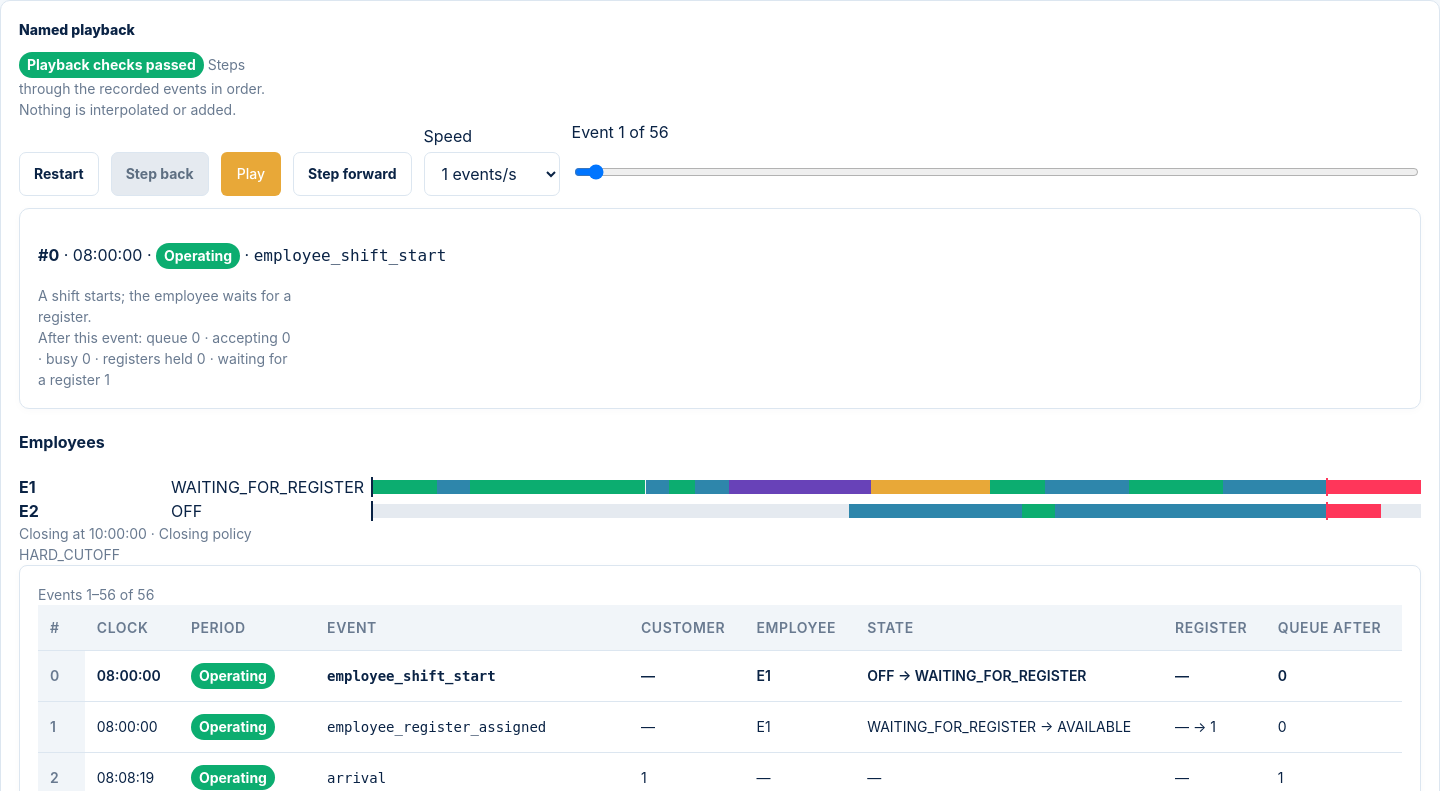
Scenario: NamedSharedQueuePlayback › steps event by event and shows each event with its vocabulary meaning
The width and height of the screenshot is (1440, 791).
expect the element with test id "named-current-event" shows "08:00:00": met, box [73,245,142,265]
Click the button "Step forward".
click(352, 174)  # box [293,152,412,196]
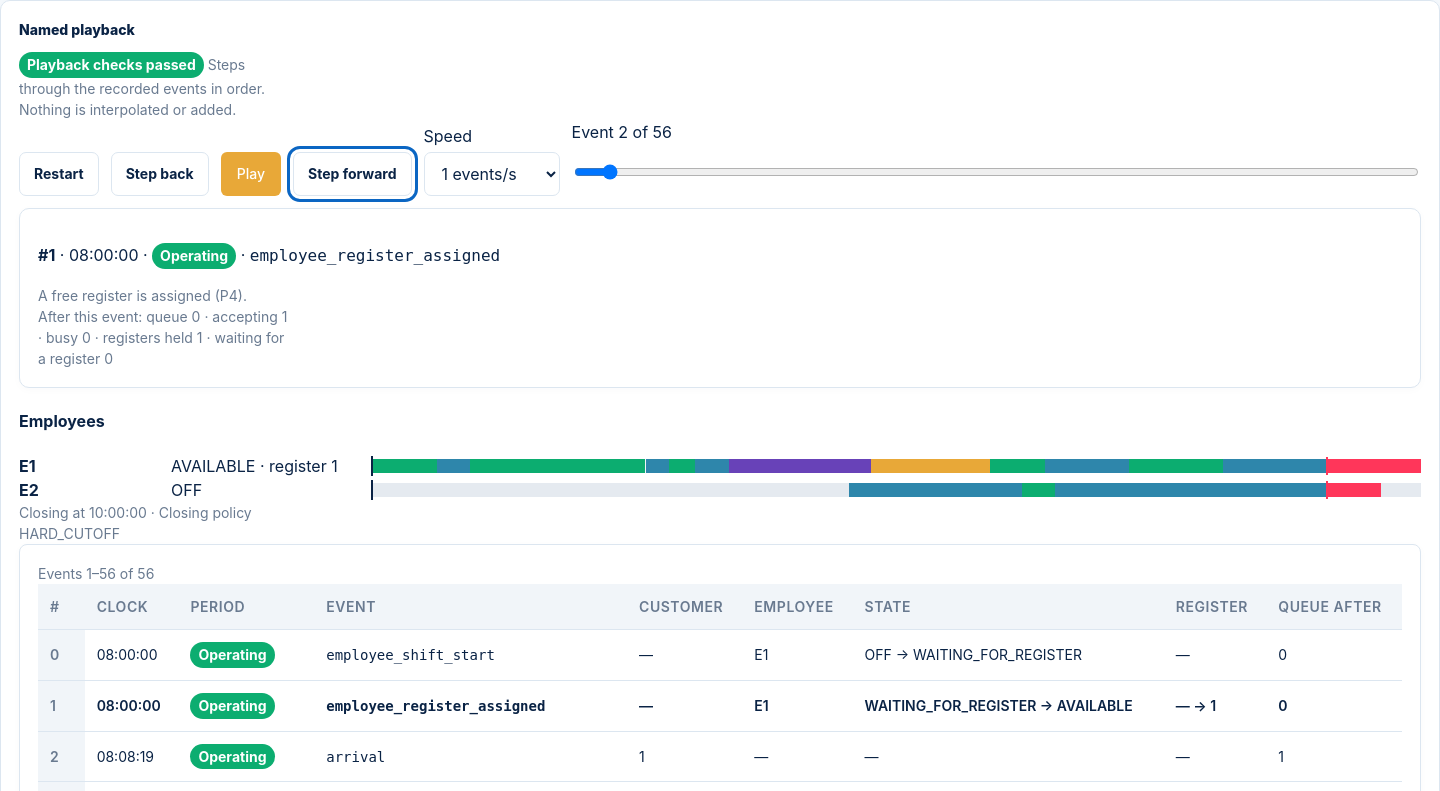
Click the button "Step back".
click(160, 174)  # box [111,152,209,196]
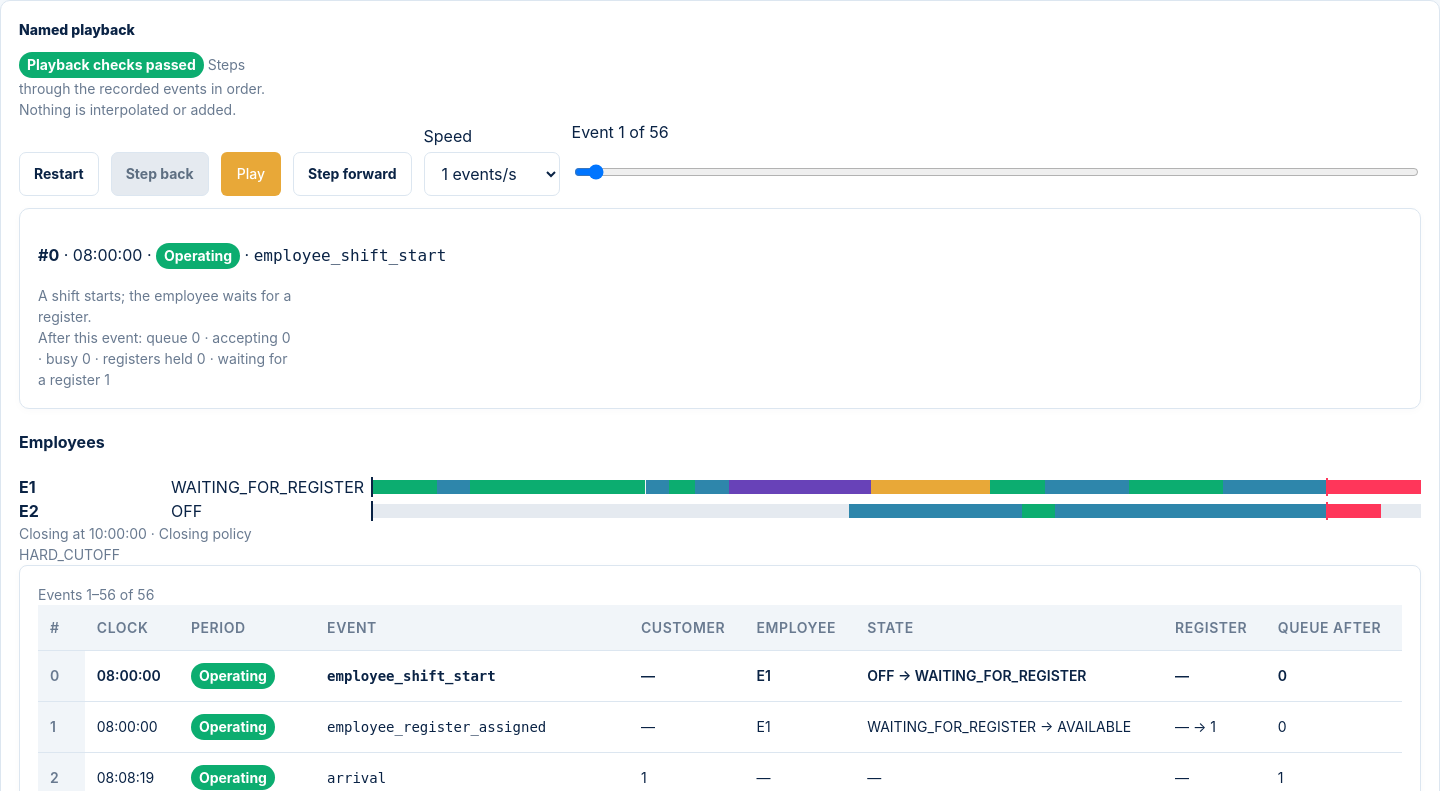
Set the slider labelled "Event 1 of 56" to "46" at (1275, 172), box [574,150,1419,194]
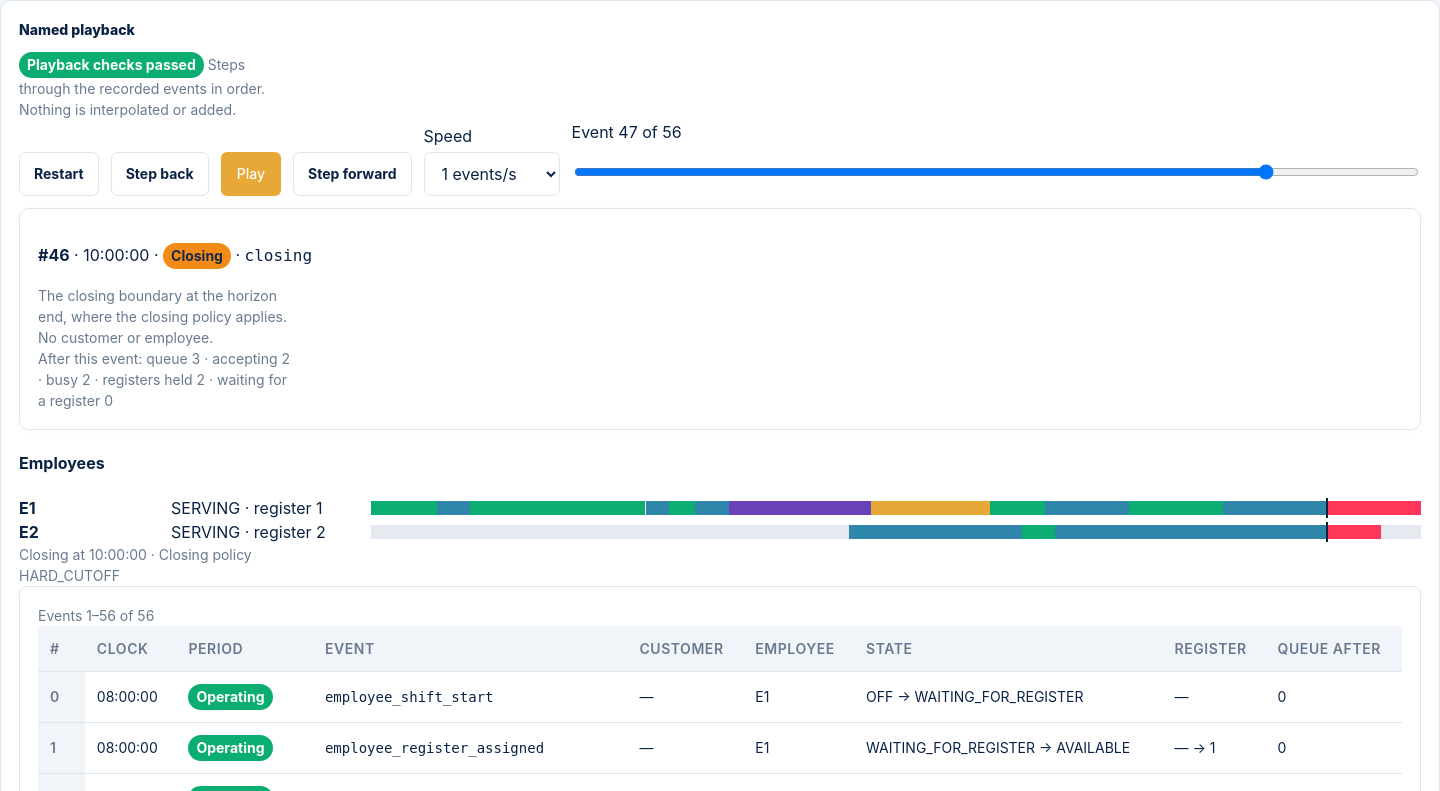
expect the element with test id "named-current-event" shows "The closing boundary at the horizon end, where the closing policy applies. No customer or employee.": met, box [38,287,287,346]
expect the text with test id "named-current-period" reads "Closing": met, box [171,247,223,264]
